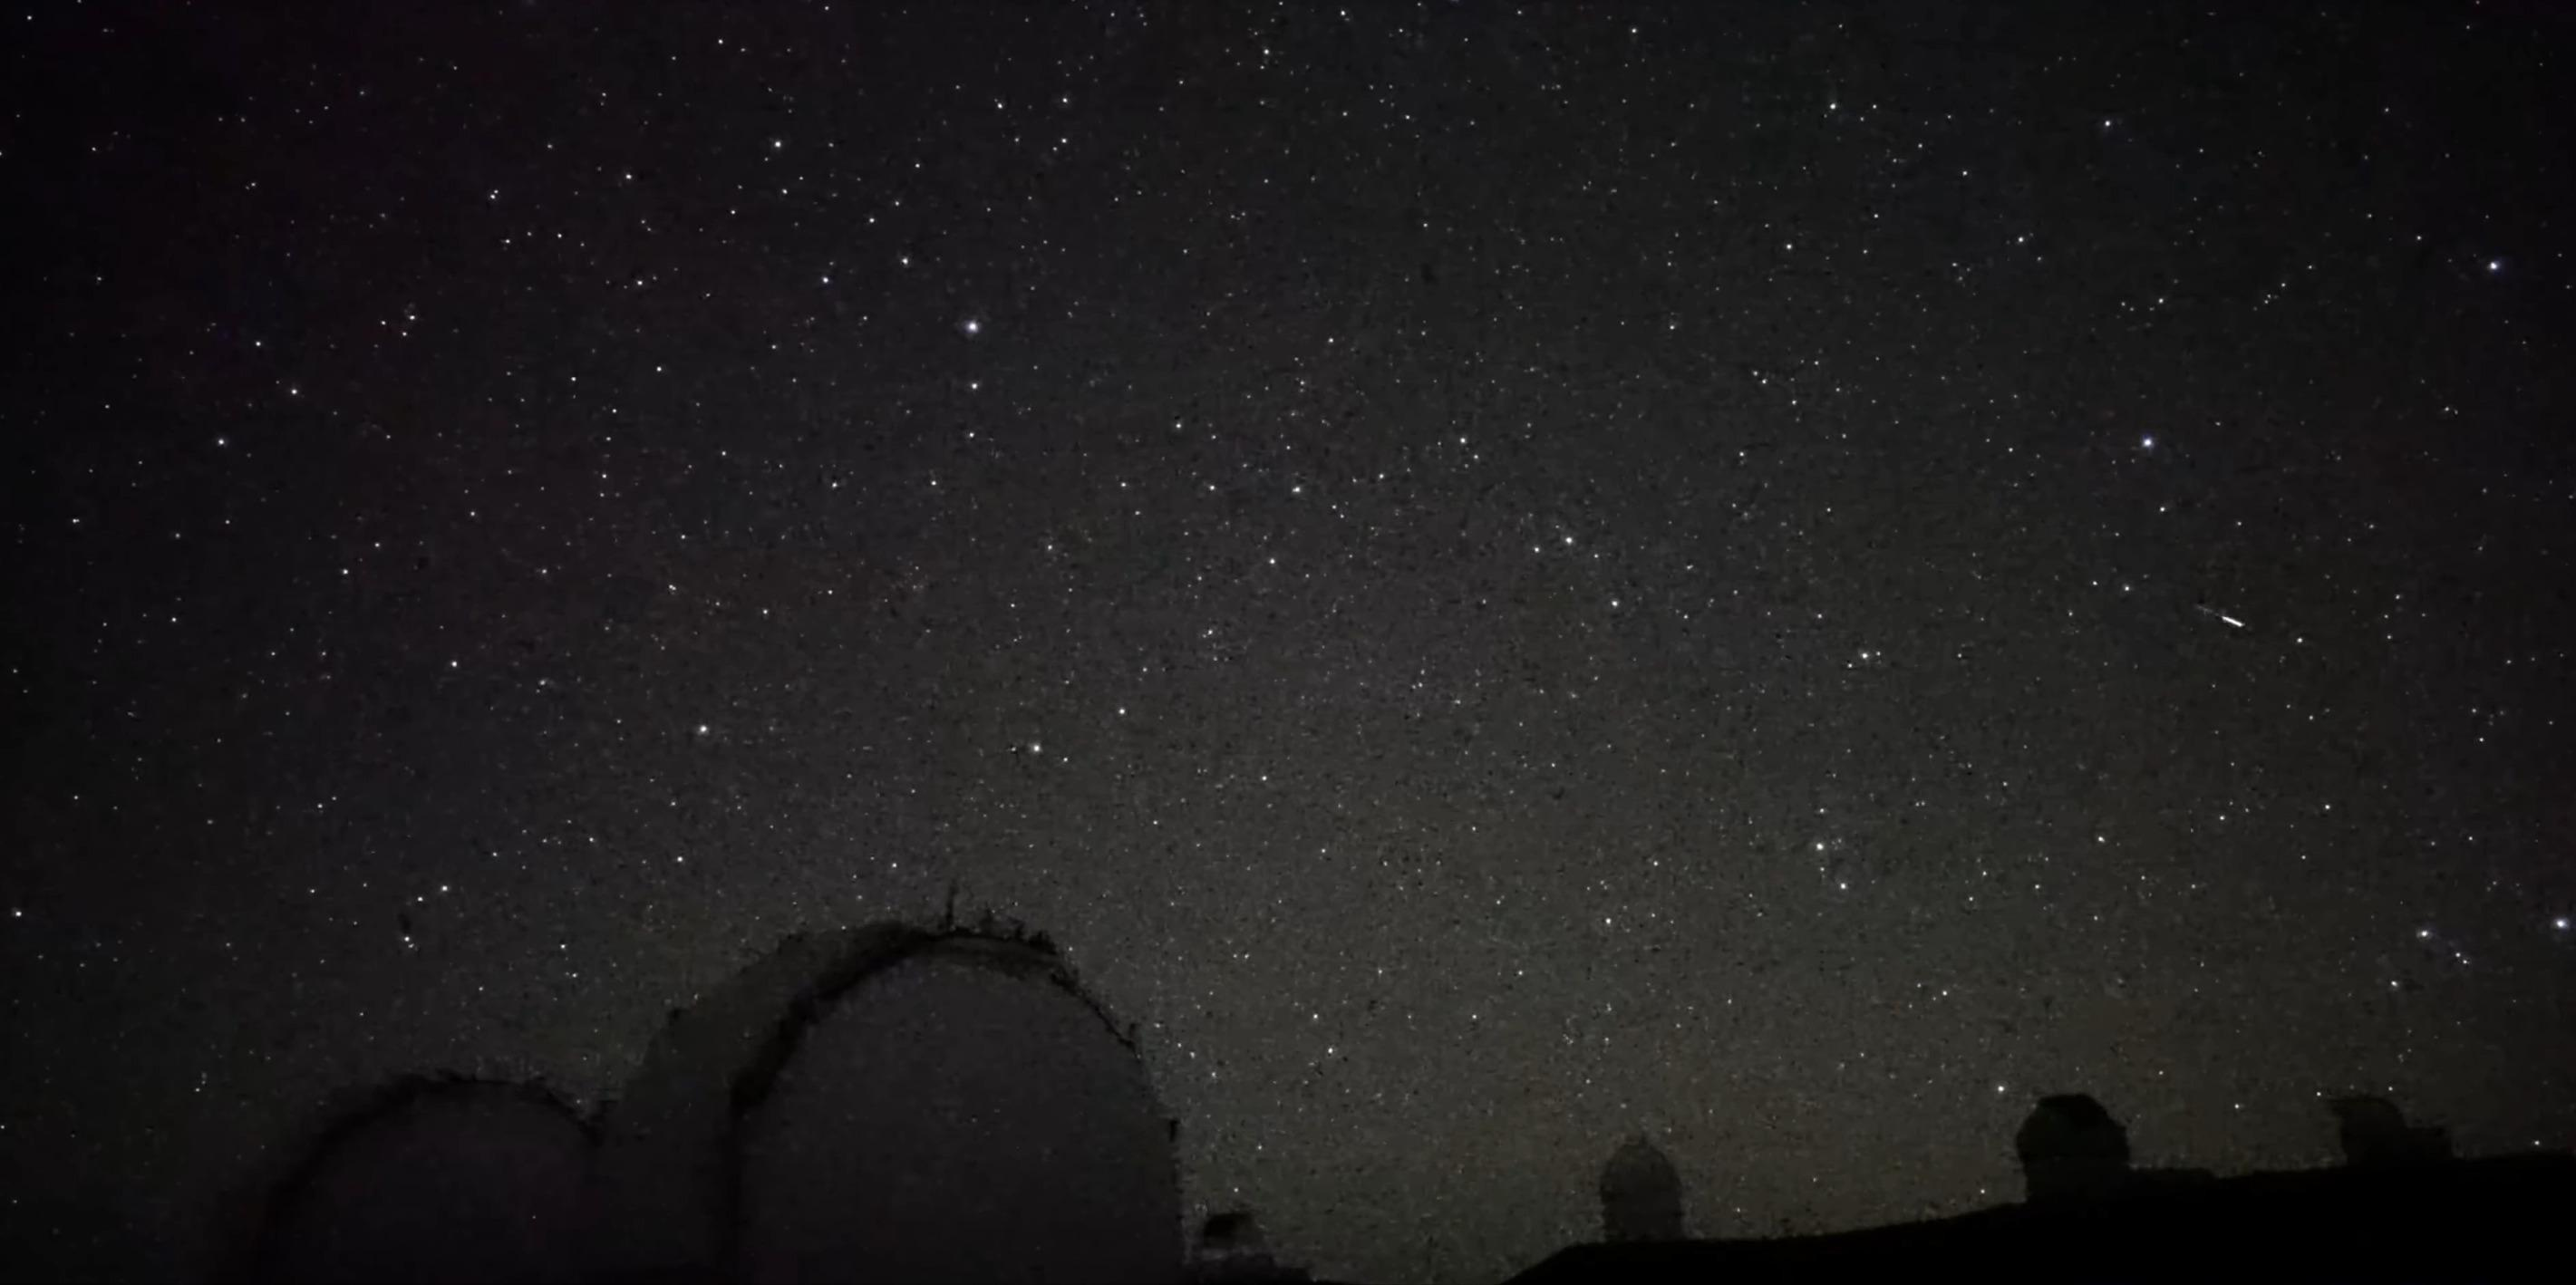meteorite: (2165, 600, 2282, 636)
